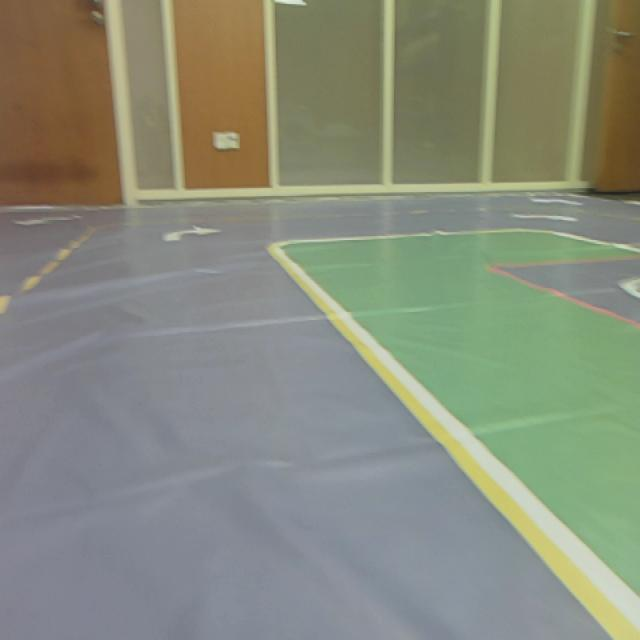left_lane: (0, 228, 96, 319)
right_lane: (265, 248, 640, 640)
